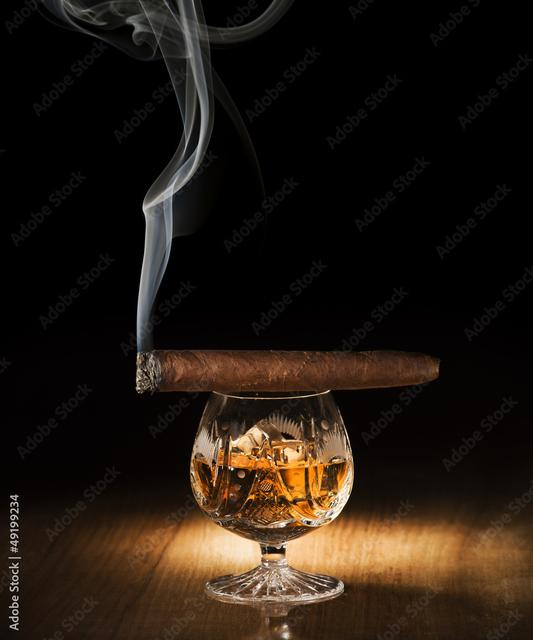Cigar: (134, 347, 441, 396)
